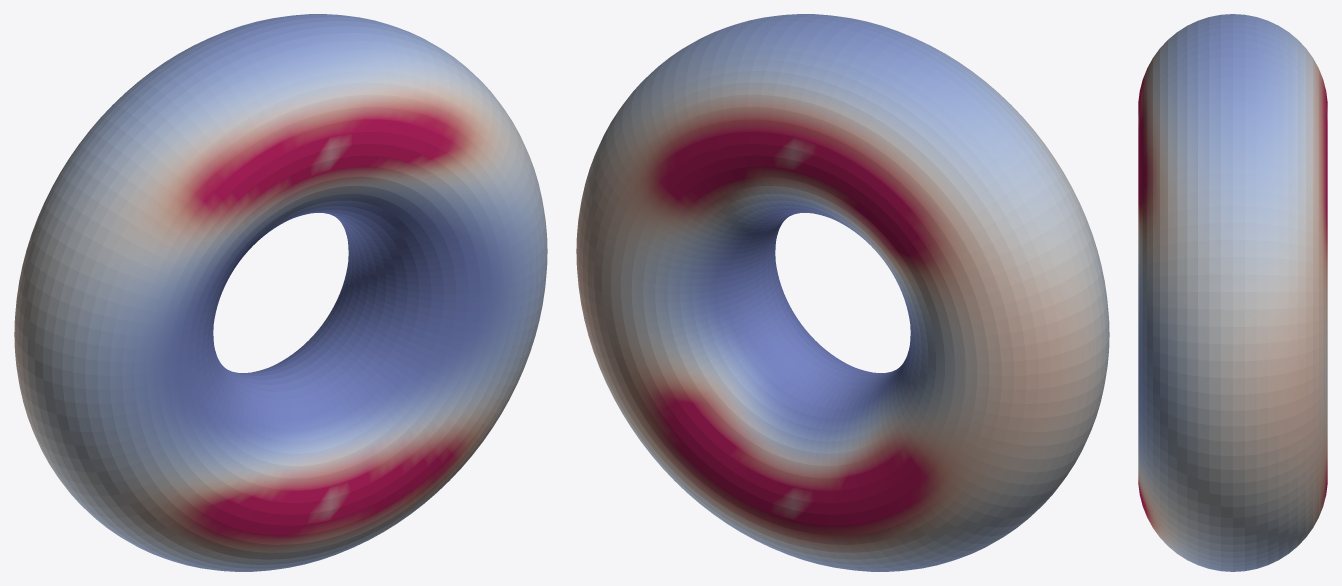
The picture shows the model from 3 angles, left to right: view 1: azimuth 30°, elevation 25°; view 2: azimuth 150°, elevation 25°; view 3: azimuth 270°, elevation 25°; orthographic projection. The views are drawn at different scales.
Parts seen in each view (by area): view 1: world; view 2: world; view 3: world.
Boxes of the visible parts, x1,y1,x2,y2 form: world: (14,14,547,571); world: (576,14,1109,571); world: (1138,14,1327,571).
Bounding box in the file's own units: 19.2 × 19.2 × 6.52.
